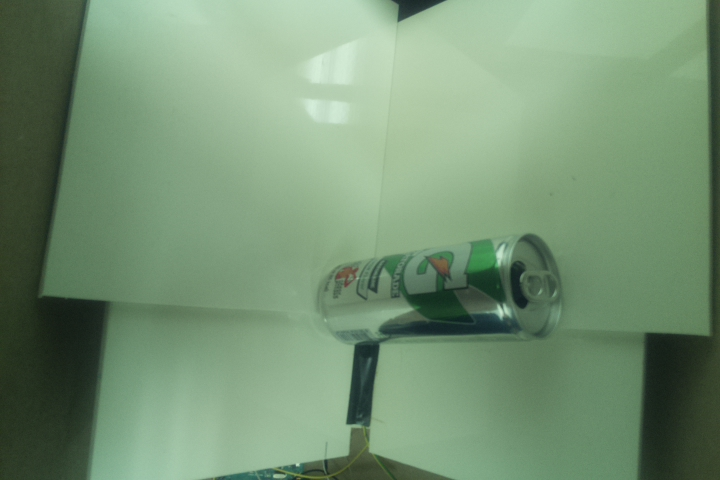can: (312, 228, 562, 354)
